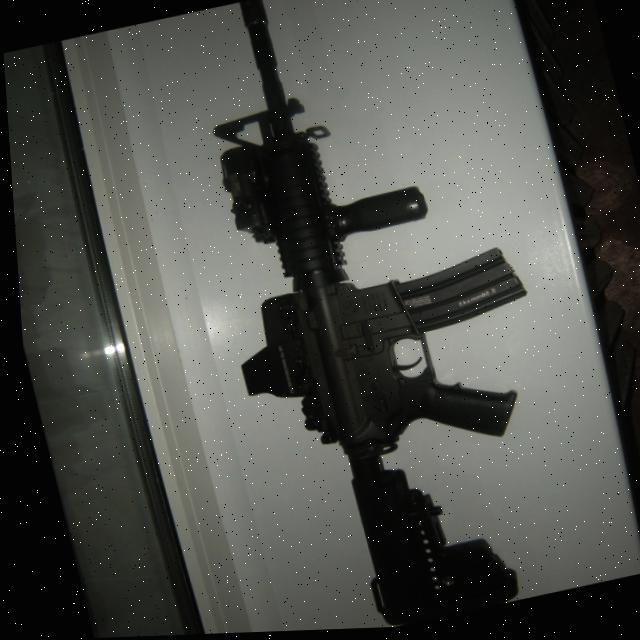firearm: (151, 0, 596, 636)
